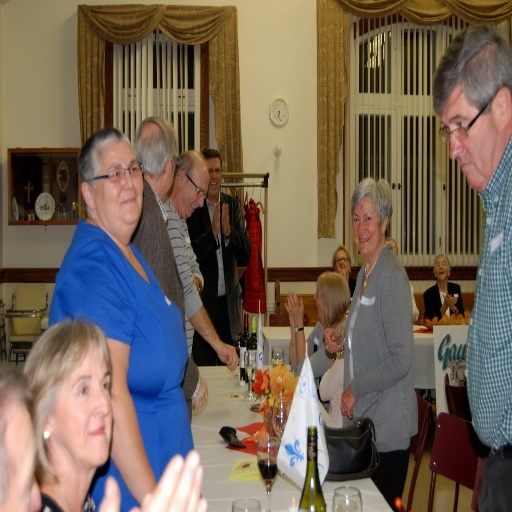hand: (137, 449, 209, 508), (98, 475, 120, 511), (217, 340, 239, 373), (283, 290, 304, 321), (191, 377, 208, 409), (323, 326, 343, 353), (340, 384, 354, 419), (210, 202, 221, 236), (221, 200, 230, 235), (288, 293, 295, 324), (446, 293, 458, 311), (192, 276, 200, 291), (443, 291, 448, 308), (338, 266, 345, 277)
